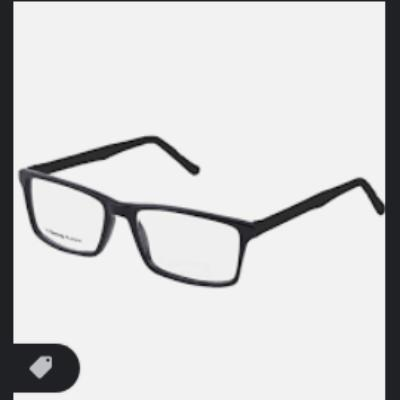glasses: (19, 133, 385, 294)
